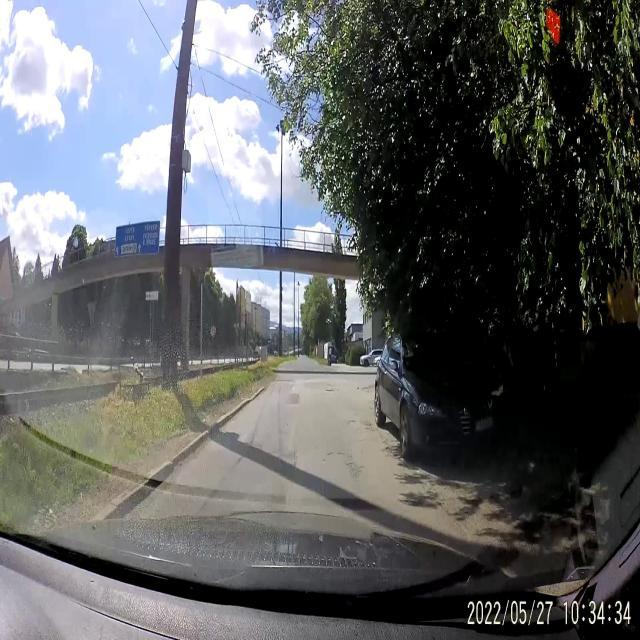Pothole: (346, 458, 366, 482), (361, 418, 376, 436), (286, 390, 300, 408), (346, 415, 358, 428), (324, 384, 336, 396), (362, 382, 374, 394), (337, 449, 345, 457), (325, 451, 335, 456)
